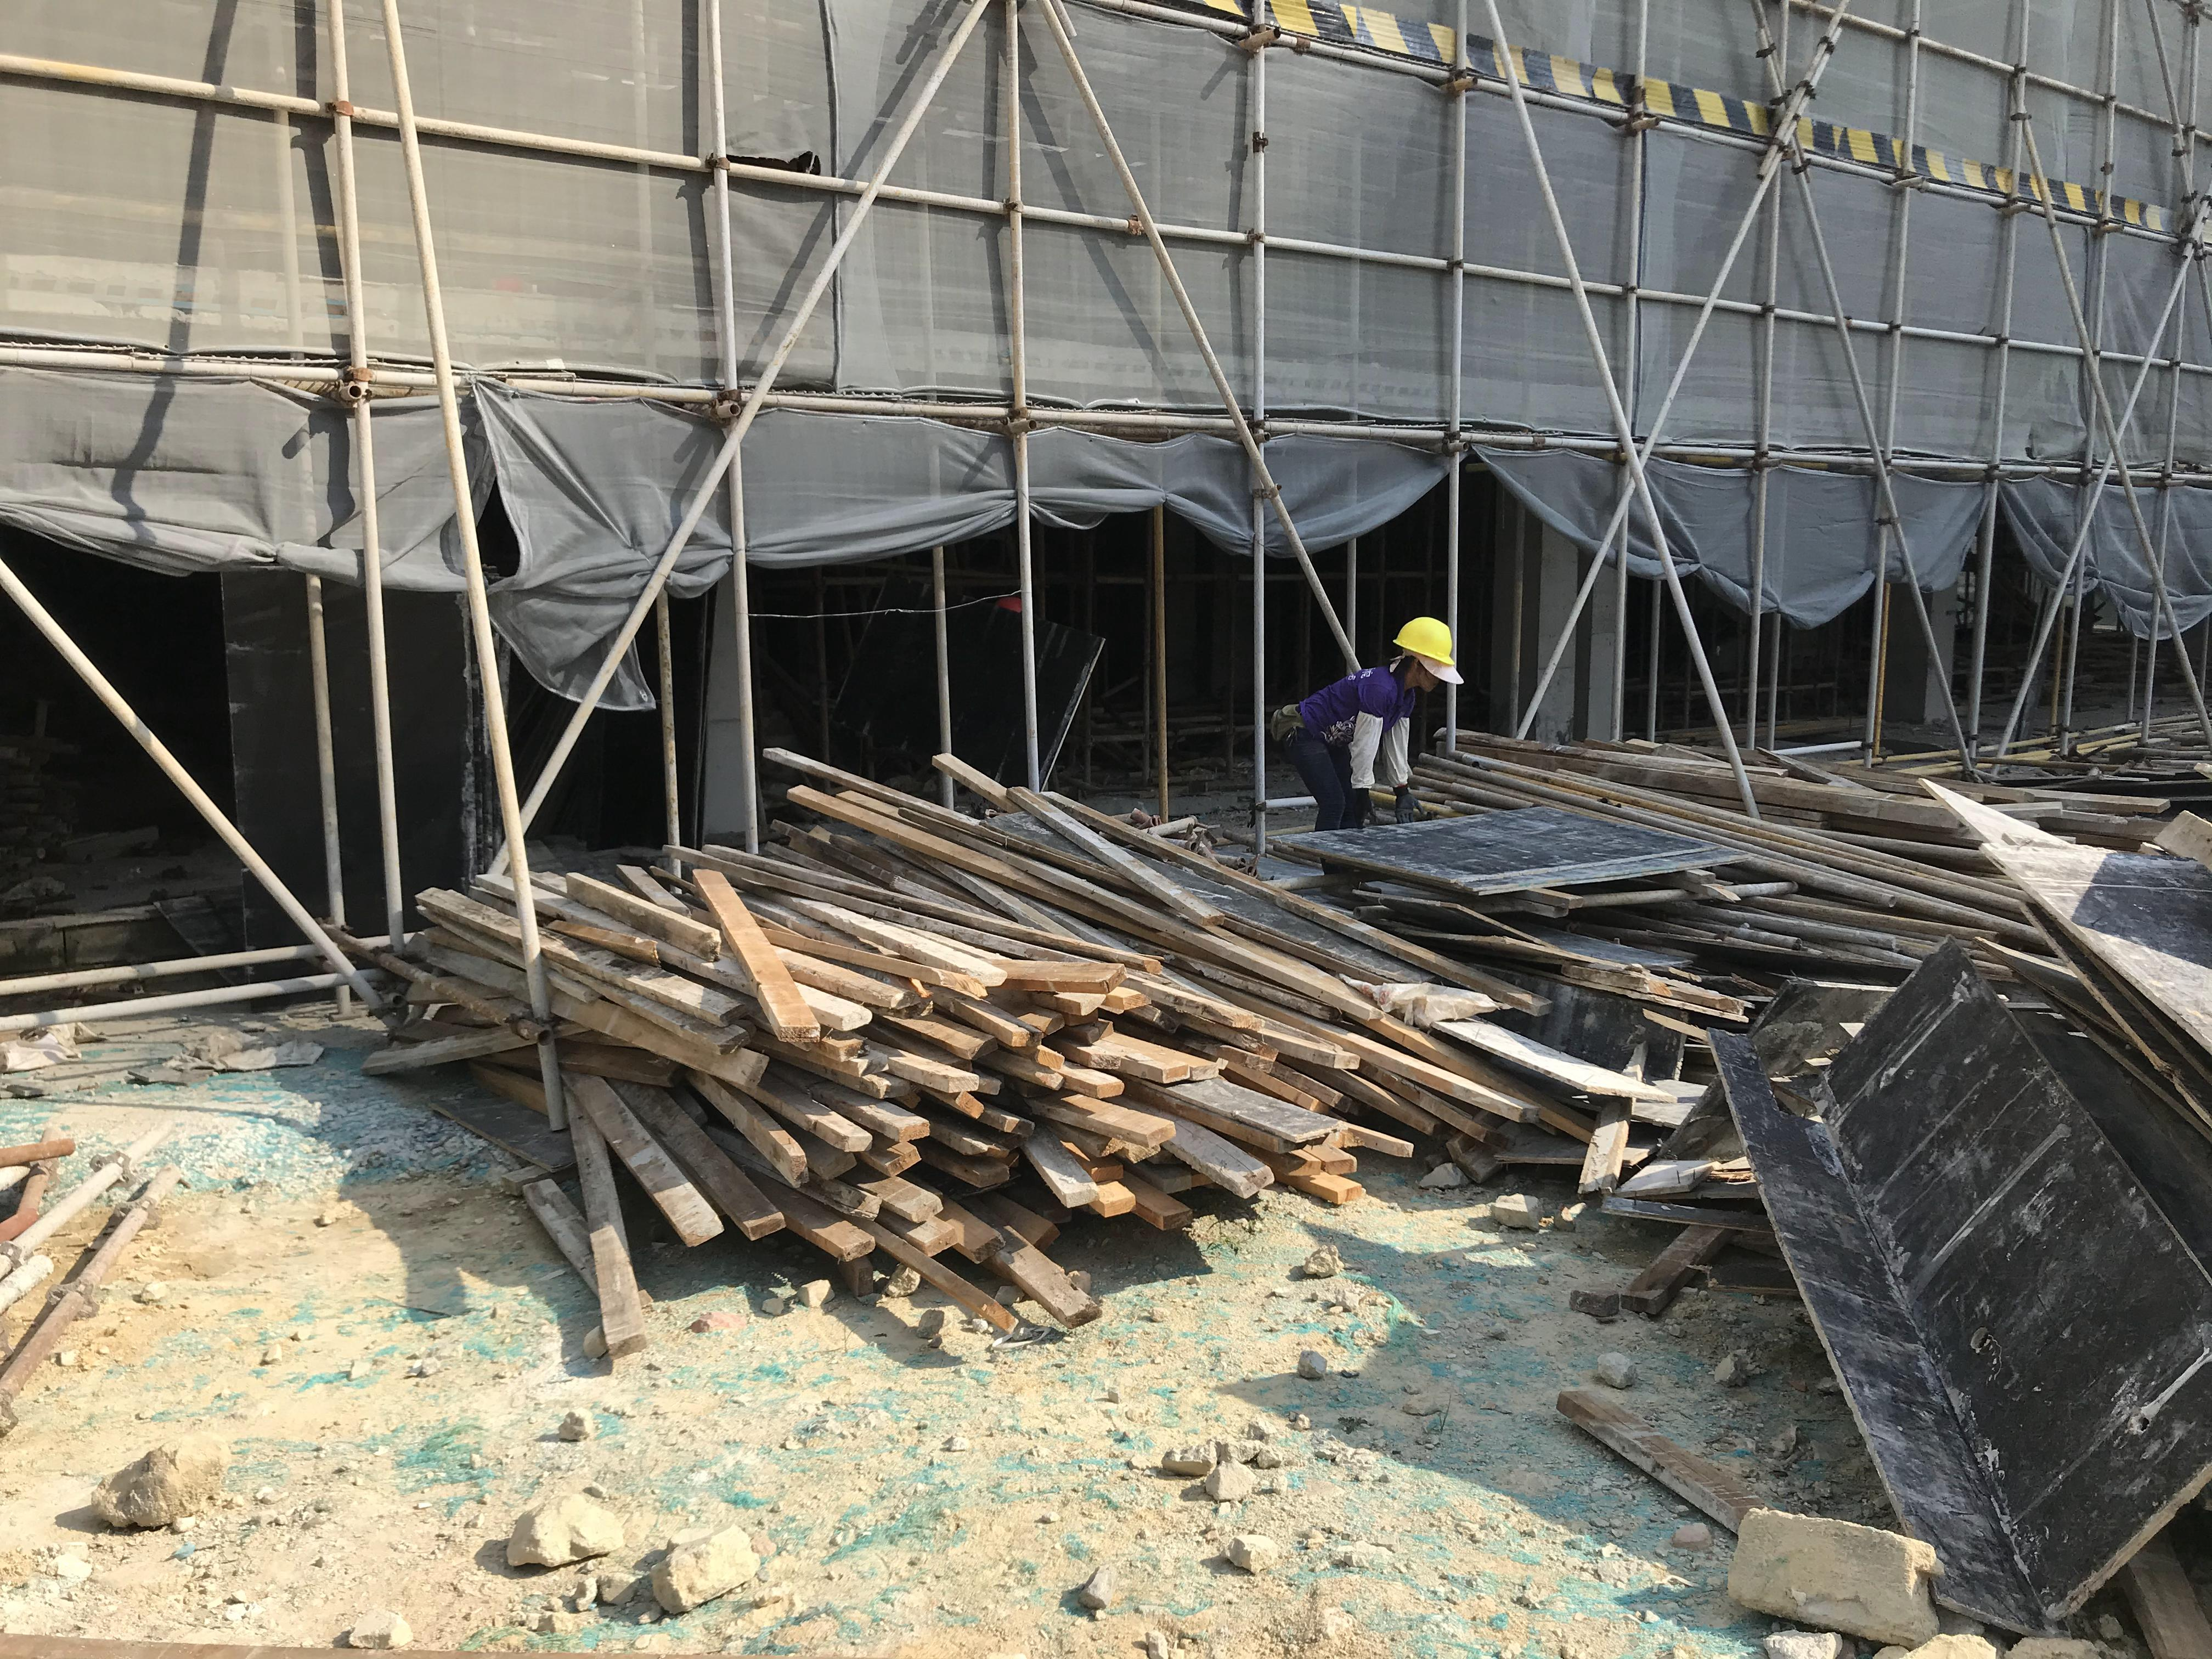helmet: (1392, 616, 1454, 667)
person: (1270, 608, 1460, 826)
wood: (352, 754, 1630, 1334)
